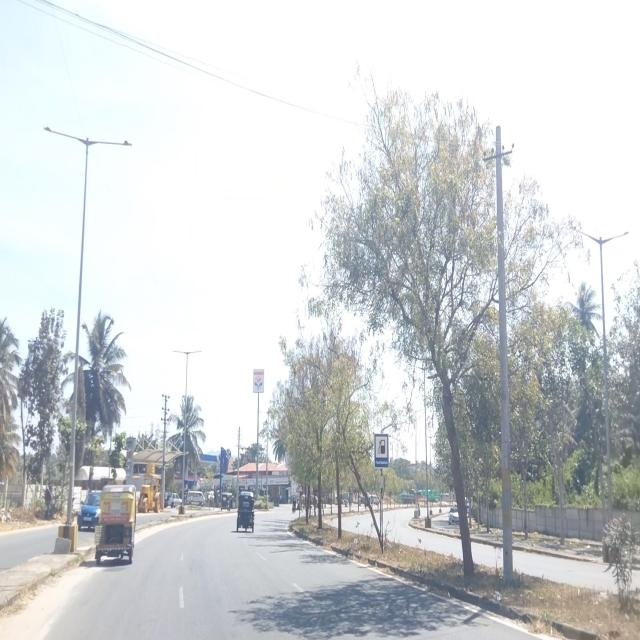bien_nguy_hiem: (296, 482, 303, 492)
